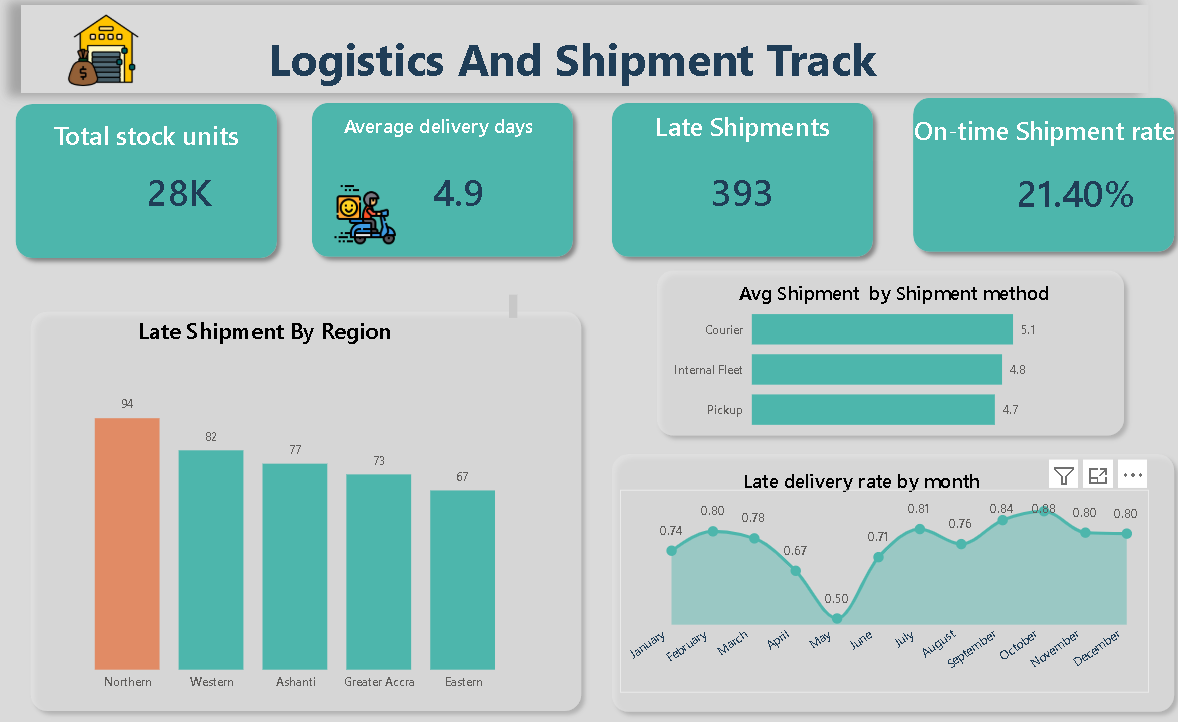

What the dashboard file says about the page in this screenshot:
{"tool":"powerbi","page":{"name":"Logistics  And Shipment  Track","canvas":[1280,720],"ordinal":4},"visuals":[{"type":"shape","title":"Page navigation","box":[83.9,12.8,220.8,706.8],"z":0,"group":"g3"},{"type":"shape","box":[760.5,260.5,468.9,177.4],"z":0},{"type":"actionButton","title":"Logistics","box":[86.5,490,219.3,48.7],"z":0,"group":"g1"},{"type":"actionButton","title":"githud","box":[10.8,504.3,72.4,73.9],"z":0,"group":"g2"},{"type":"actionButton","title":"close button","box":[256.8,8.7,53.4,77],"z":1000,"group":"g3"},{"type":"shape","box":[156.2,300.8,549.5,403.4],"z":1000},{"type":"actionButton","title":"Supplier","box":[86.5,409.6,219.3,48.7],"z":1000,"group":"g1"},{"type":"actionButton","title":"LinkIn","box":[7.2,617,72.4,73.9],"z":1000,"group":"g2"},{"type":"actionButton","title":"Menu","box":[12.7,20.2,64,82.4],"z":2000,"group":"g2"},{"type":"group","id":"g1","title":"pages","box":[85.7,168.6,220.8,370.1],"z":2000,"group":"g3"},{"type":"actionButton","title":"Inventory","box":[86.5,329.3,219.3,48.7],"z":2000,"group":"g1"},{"type":"shape","box":[717,437.9,560.7,266.7],"z":2000},{"type":"shape","box":[717,98.9,270,166.5],"z":3000},{"type":"actionButton","title":"Customer","box":[86.5,248.9,219.3,48.7],"z":3000,"group":"g1"},{"type":"shape","box":[141.2,100.1,270.2,166.5],"z":4000},{"type":"actionButton","title":"Sales","box":[85.7,168.6,220.8,48.7],"z":4000,"group":"g1"},{"type":"shape","box":[426.7,98.9,270,166.5],"z":5000},{"type":"textbox","box":[427.1,94.1,263,63.9],"z":6000},{"type":"textbox","box":[155.6,98.9,241.3,63.9],"z":7000},{"type":"card","fields":{"Values":["Stock_Levels.Total Stock Units"]},"box":[234,158,149.6,71.2],"z":8000},{"type":"columnChart","fields":{"Y":["Shipment.Late Shipments"],"Category":["Shipment.Shipping_Region"]},"box":[189.4,375.2,463.3,310.1],"z":9000},{"type":"textbox","box":[156.2,13,1087.4,85.3],"z":10000},{"type":"card","fields":{"Values":["Shipment.Avg Delivery Days"]},"box":[503.1,158,149.6,71.2],"z":11000},{"type":"shape","box":[1007.4,94.1,270,166.5],"z":12000},{"type":"card","fields":{"Values":["Shipment.Late Shipments"]},"box":[776.9,158,149.6,71.2],"z":13000},{"type":"textbox","box":[727.5,108.6,248.5,49.5],"z":14000},{"type":"card","fields":{"Values":["Shipment.On-Time Shipment Rate"]},"box":[1099.1,159.3,149.6,71.2],"z":15000},{"type":"textbox","box":[1006.1,94.3,274.2,63.3],"z":16000},{"type":"textbox","box":[776.6,436.7,379.6,60.8],"z":17000},{"type":"textbox","box":[150.1,287.8,490,60.8],"z":18000},{"type":"image","box":[156.2,20.2,159.1,73.7],"z":19000},{"type":"lineChart","fields":{"Y":["Shipment.Late Shipment Rate"],"Category":["Dim_Date.Month Name"]},"box":[733.5,481.4,510.3,195.4],"z":20000},{"type":"clusteredBarChart","fields":{"Y":["Shipment.Avg Delivery Days"],"Category":["Shipment.Shipping_Method"]},"box":[776.6,284.1,366,157.6],"z":21000},{"type":"textbox","box":[798.9,254.3,399.5,59.5],"z":22000},{"type":"image","box":[446.6,183.6,81.9,63.3],"z":23000},{"type":"shape","title":"Container","box":[0,0,96.9,720.1],"z":24000},{"type":"group","id":"g2","title":"Menu bar","box":[7.2,20.2,76.6,671],"z":30000},{"type":"group","id":"g3","title":"Menu objects","box":[83.9,8.7,227,711.4],"z":31000}]}

Visuals, with their boxes on the page's 1280x720 design canvas (x1, y1, x2, y2). These are canvas units, not pixel positions in the 1178x722 screenshot, which may show the page scaled, cropped or inside an application window:
"Page navigation" shape: bbox(84, 13, 305, 720)
shape: bbox(760, 260, 1229, 438)
"Logistics" actionButton: bbox(86, 490, 306, 539)
"githud" actionButton: bbox(11, 504, 83, 578)
"close button" actionButton: bbox(257, 9, 310, 86)
shape: bbox(156, 301, 706, 704)
"Supplier" actionButton: bbox(86, 410, 306, 458)
"LinkIn" actionButton: bbox(7, 617, 80, 691)
"Menu" actionButton: bbox(13, 20, 77, 103)
"pages" group: bbox(86, 169, 306, 539)
"Inventory" actionButton: bbox(86, 329, 306, 378)
shape: bbox(717, 438, 1278, 705)
shape: bbox(717, 99, 987, 265)
"Customer" actionButton: bbox(86, 249, 306, 298)
shape: bbox(141, 100, 411, 267)
"Sales" actionButton: bbox(86, 169, 306, 217)
shape: bbox(427, 99, 697, 265)
textbox: bbox(427, 94, 690, 158)
textbox: bbox(156, 99, 397, 163)
card - Stock_Levels.Total Stock Units: bbox(234, 158, 384, 229)
columnChart - Shipment.Late Shipments x Shipment.Shipping_Region: bbox(189, 375, 653, 685)
textbox: bbox(156, 13, 1244, 98)
card - Shipment.Avg Delivery Days: bbox(503, 158, 653, 229)
shape: bbox(1007, 94, 1277, 261)
card - Shipment.Late Shipments: bbox(777, 158, 926, 229)
textbox: bbox(728, 109, 976, 158)
card - Shipment.On-Time Shipment Rate: bbox(1099, 159, 1249, 230)
textbox: bbox(1006, 94, 1280, 158)
textbox: bbox(777, 437, 1156, 498)
textbox: bbox(150, 288, 640, 349)
image: bbox(156, 20, 315, 94)
lineChart - Shipment.Late Shipment Rate x Dim_Date.Month Name: bbox(734, 481, 1244, 677)
clusteredBarChart - Shipment.Avg Delivery Days x Shipment.Shipping_Method: bbox(777, 284, 1143, 442)
textbox: bbox(799, 254, 1198, 314)
image: bbox(447, 184, 528, 247)
"Container" shape: bbox(0, 0, 97, 720)
"Menu bar" group: bbox(7, 20, 84, 691)
"Menu objects" group: bbox(84, 9, 311, 720)
